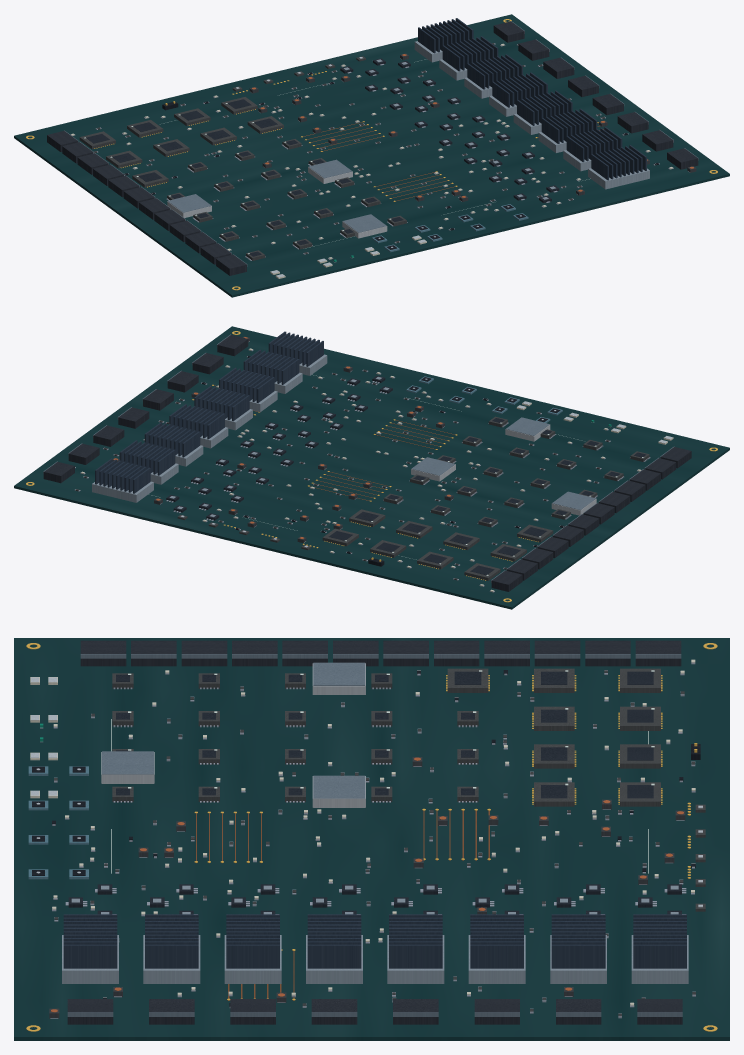
File: 369_L123_AssembledReference.obj
3 renders of one model, top to bottom at view 1: azimuth 30°, elevation 25°; view 2: azimuth 150°, elevation 25°; view 3: azimuth 270°, elevation 25°, orthographic. The views are drawn at different scales.
Visible parts, largest first — view 1: 369_L123_AssembledReference__PSMAT__pcb, 369_L123_AssembledReference__PSMAT__anodized, 369_L123_AssembledReference__PSMAT__connector, 369_L123_AssembledReference__PSMAT__graphite, 369_L123_AssembledReference__PSMAT__chip, 369_L123_AssembledReference__PSMAT__aluminum, 369_L123_AssembledReference__PSMAT__steel, 369_L123_AssembledReference__PSMAT__tin, 369_L123_AssembledReference__PSMAT__ceramic, 369_L123_AssembledReference__PSMAT__ferrite, 369_L123_AssembledReference__PSMAT__nickel, 369_L123_AssembledReference__PSMAT__resistor (+3 smaller); view 2: 369_L123_AssembledReference__PSMAT__pcb, 369_L123_AssembledReference__PSMAT__anodized, 369_L123_AssembledReference__PSMAT__connector, 369_L123_AssembledReference__PSMAT__graphite, 369_L123_AssembledReference__PSMAT__chip, 369_L123_AssembledReference__PSMAT__aluminum, 369_L123_AssembledReference__PSMAT__tin, 369_L123_AssembledReference__PSMAT__steel, 369_L123_AssembledReference__PSMAT__ceramic, 369_L123_AssembledReference__PSMAT__ferrite, 369_L123_AssembledReference__PSMAT__nickel, 369_L123_AssembledReference__PSMAT__resistor (+4 smaller); view 3: 369_L123_AssembledReference__PSMAT__pcb, 369_L123_AssembledReference__PSMAT__anodized, 369_L123_AssembledReference__PSMAT__connector, 369_L123_AssembledReference__PSMAT__graphite, 369_L123_AssembledReference__PSMAT__aluminum, 369_L123_AssembledReference__PSMAT__steel, 369_L123_AssembledReference__PSMAT__chip, 369_L123_AssembledReference__PSMAT__tin, 369_L123_AssembledReference__PSMAT__nickel, 369_L123_AssembledReference__PSMAT__ceramic, 369_L123_AssembledReference__PSMAT__ferrite, 369_L123_AssembledReference__PSMAT__gold (+4 smaller).
Part boxes in pixels (bbox=[...]): 369_L123_AssembledReference__PSMAT__pcb: bbox=[14, 14, 729, 297]; 369_L123_AssembledReference__PSMAT__anodized: bbox=[418, 18, 646, 180]; 369_L123_AssembledReference__PSMAT__connector: bbox=[47, 21, 698, 275]; 369_L123_AssembledReference__PSMAT__graphite: bbox=[79, 56, 406, 260]; 369_L123_AssembledReference__PSMAT__chip: bbox=[86, 58, 559, 256]; 369_L123_AssembledReference__PSMAT__aluminum: bbox=[343, 41, 649, 199]; 369_L123_AssembledReference__PSMAT__steel: bbox=[64, 21, 698, 266]; 369_L123_AssembledReference__PSMAT__tin: bbox=[70, 43, 673, 262]; 369_L123_AssembledReference__PSMAT__ceramic: bbox=[71, 43, 672, 278]; 369_L123_AssembledReference__PSMAT__ferrite: bbox=[249, 53, 696, 201]; 369_L123_AssembledReference__PSMAT__nickel: bbox=[167, 167, 387, 238]; 369_L123_AssembledReference__PSMAT__resistor: bbox=[94, 43, 604, 254]; 369_L123_AssembledReference__PSMAT__pcb: bbox=[14, 326, 729, 609]; 369_L123_AssembledReference__PSMAT__anodized: bbox=[95, 331, 323, 493]; 369_L123_AssembledReference__PSMAT__connector: bbox=[43, 335, 691, 591]; 369_L123_AssembledReference__PSMAT__graphite: bbox=[177, 416, 649, 580]; 369_L123_AssembledReference__PSMAT__chip: bbox=[166, 376, 646, 575]; 369_L123_AssembledReference__PSMAT__aluminum: bbox=[92, 354, 389, 517]; 369_L123_AssembledReference__PSMAT__tin: bbox=[74, 349, 650, 592]; 369_L123_AssembledReference__PSMAT__steel: bbox=[43, 334, 674, 582]; 369_L123_AssembledReference__PSMAT__ceramic: bbox=[81, 348, 673, 592]; 369_L123_AssembledReference__PSMAT__ferrite: bbox=[112, 336, 453, 543]; 369_L123_AssembledReference__PSMAT__nickel: bbox=[411, 424, 596, 515]; 369_L123_AssembledReference__PSMAT__resistor: bbox=[75, 369, 609, 580]; 369_L123_AssembledReference__PSMAT__pcb: bbox=[14, 638, 729, 1040]; 369_L123_AssembledReference__PSMAT__anodized: bbox=[63, 914, 686, 968]; 369_L123_AssembledReference__PSMAT__connector: bbox=[67, 640, 682, 1024]; 369_L123_AssembledReference__PSMAT__graphite: bbox=[112, 668, 705, 911]; 369_L123_AssembledReference__PSMAT__aluminum: bbox=[62, 885, 688, 983]; 369_L123_AssembledReference__PSMAT__steel: bbox=[67, 654, 682, 1016]; 369_L123_AssembledReference__PSMAT__chip: bbox=[68, 671, 681, 914]; 369_L123_AssembledReference__PSMAT__tin: bbox=[40, 662, 695, 1018]; 369_L123_AssembledReference__PSMAT__nickel: bbox=[101, 663, 365, 807]; 369_L123_AssembledReference__PSMAT__ceramic: bbox=[30, 659, 695, 1005]; 369_L123_AssembledReference__PSMAT__ferrite: bbox=[49, 757, 685, 1018]; 369_L123_AssembledReference__PSMAT__gold: bbox=[26, 643, 717, 1031].
Size of the model in its own units: 0.58 by 0.0276 by 0.44.
23 materials, 23 textured.
